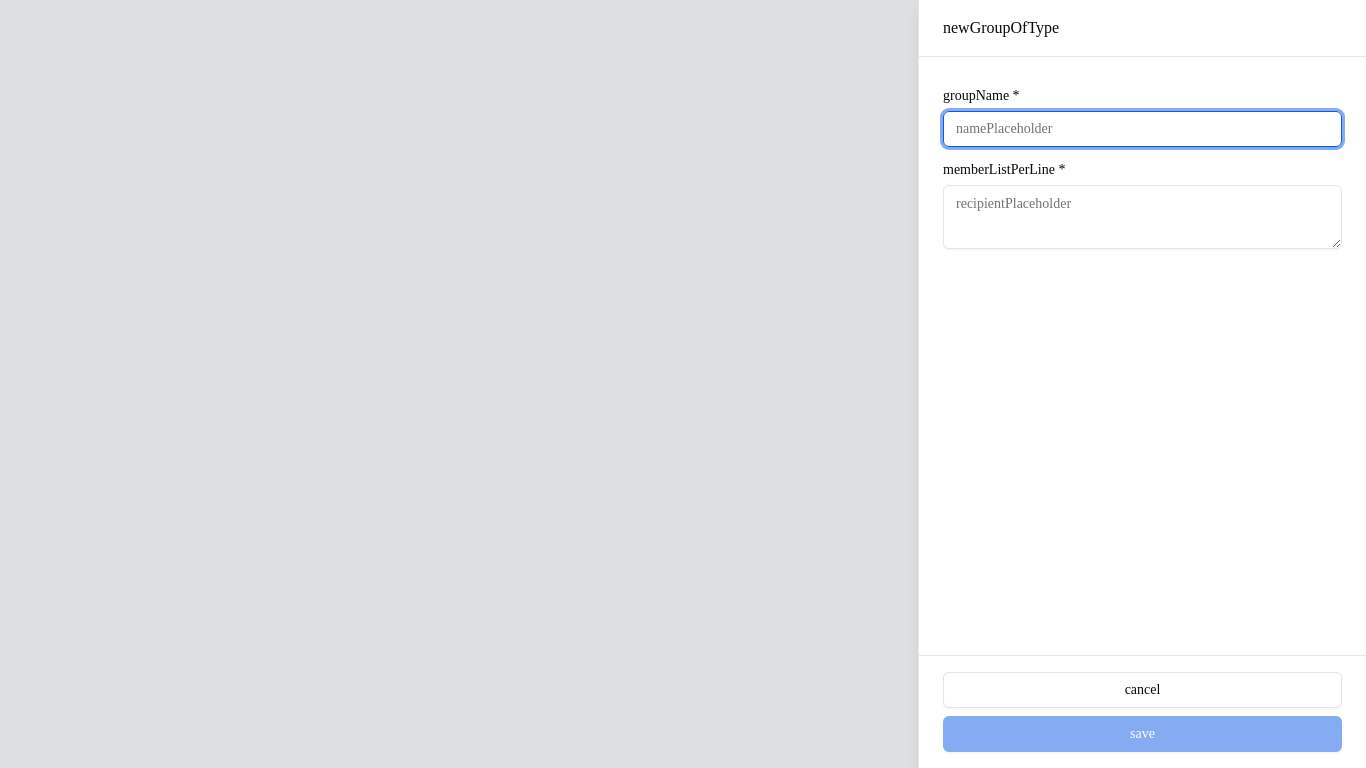
Test: GroupEditDialog member requirement (GT-12259) › shows the members-required hint once the form has been touched
Type "vipgroup" into the field with test id "group-edit-name" at (1142, 129), box [943,111,1342,147]
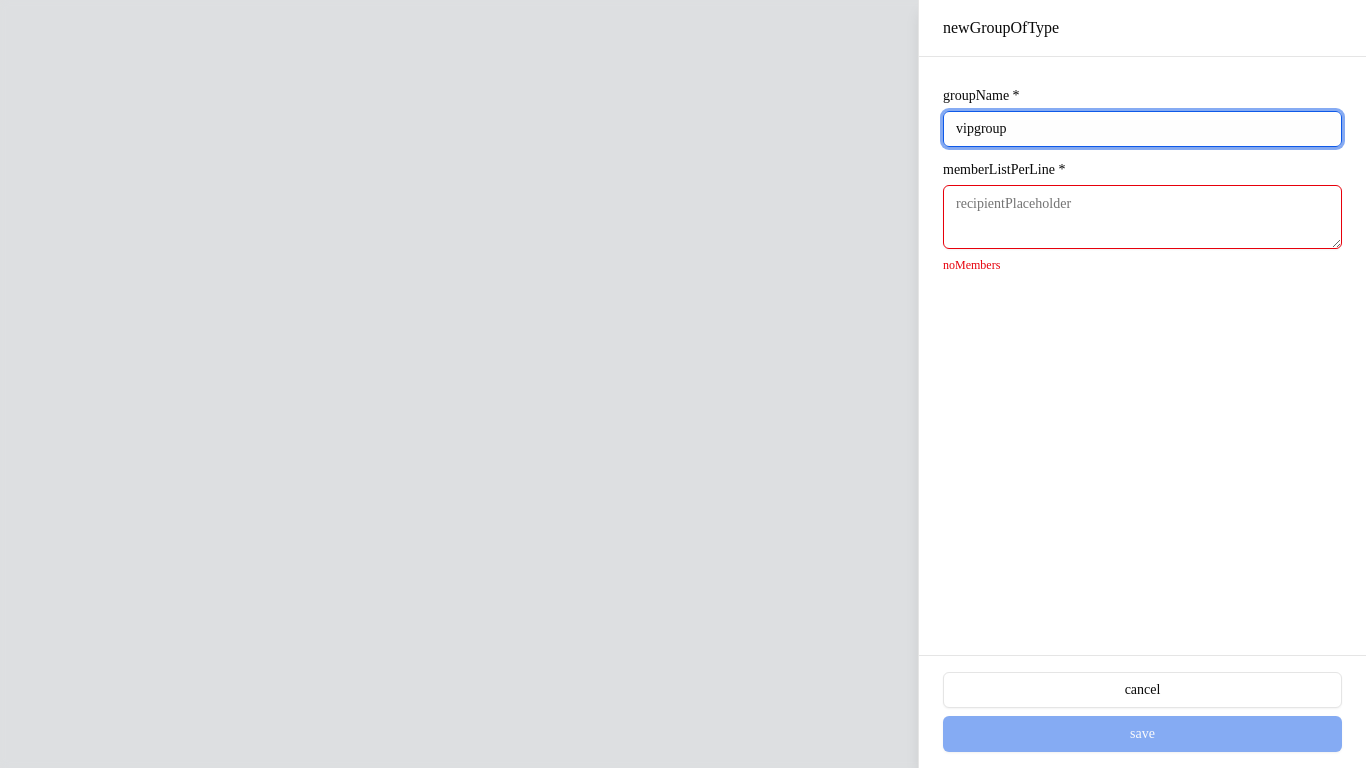
Now the text with test id "group-edit-members-error" reads "noMembers", box [943,258,1000,272]
